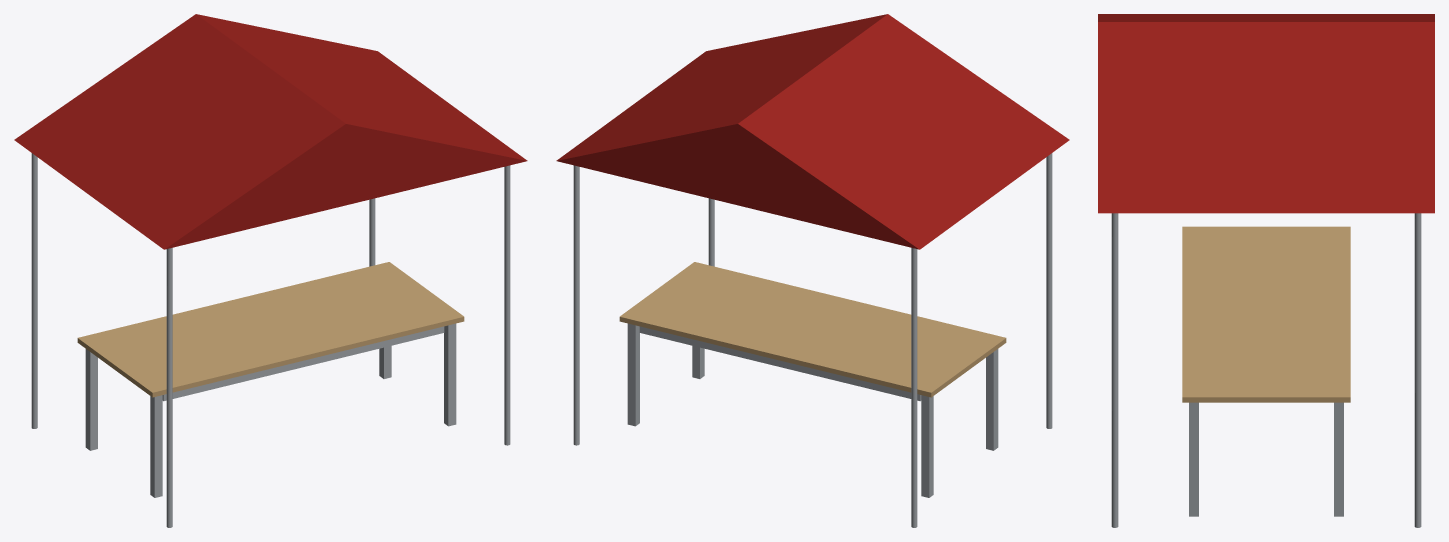
File: retail.shop.market_stall.glb
3 views of the same model, side by side, from view 1: azimuth 30°, elevation 25°; view 2: azimuth 150°, elevation 25°; view 3: azimuth 270°, elevation 25° (orthographic). The views are drawn at different scales.
Parts seen in each view (by area): view 1: main__fabric_red, main__plywood, main__steel_galvanised; view 2: main__fabric_red, main__plywood, main__steel_galvanised; view 3: main__fabric_red, main__plywood, main__steel_galvanised.
Part boxes in pixels (<box>): main__fabric_red: <box>14,14,527,249</box>; main__plywood: <box>77,262,464,397</box>; main__steel_galvanised: <box>31,153,510,527</box>; main__fabric_red: <box>556,14,1069,249</box>; main__plywood: <box>619,262,1006,397</box>; main__steel_galvanised: <box>573,153,1052,527</box>; main__fabric_red: <box>1098,14,1434,213</box>; main__plywood: <box>1182,226,1350,402</box>; main__steel_galvanised: <box>1111,213,1421,527</box>.
Size of the model in its own units: 2.8 by 2.7 by 2.
